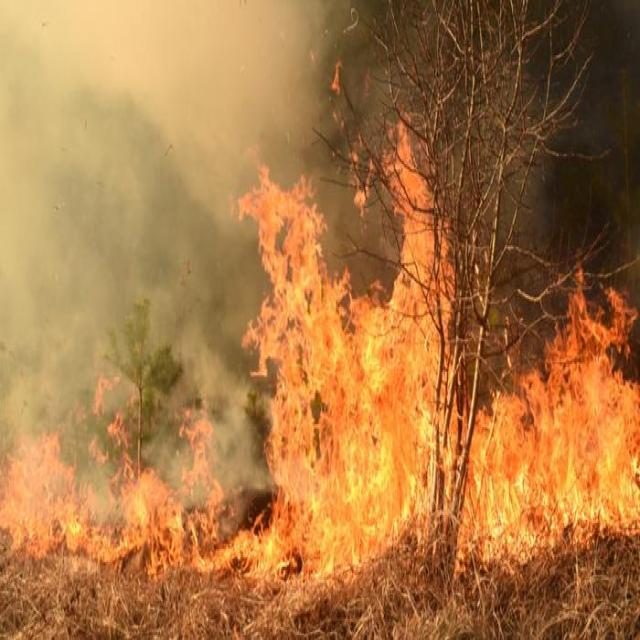Fire: (246, 176, 368, 540), (495, 296, 606, 552), (118, 468, 196, 576), (14, 428, 76, 558)
